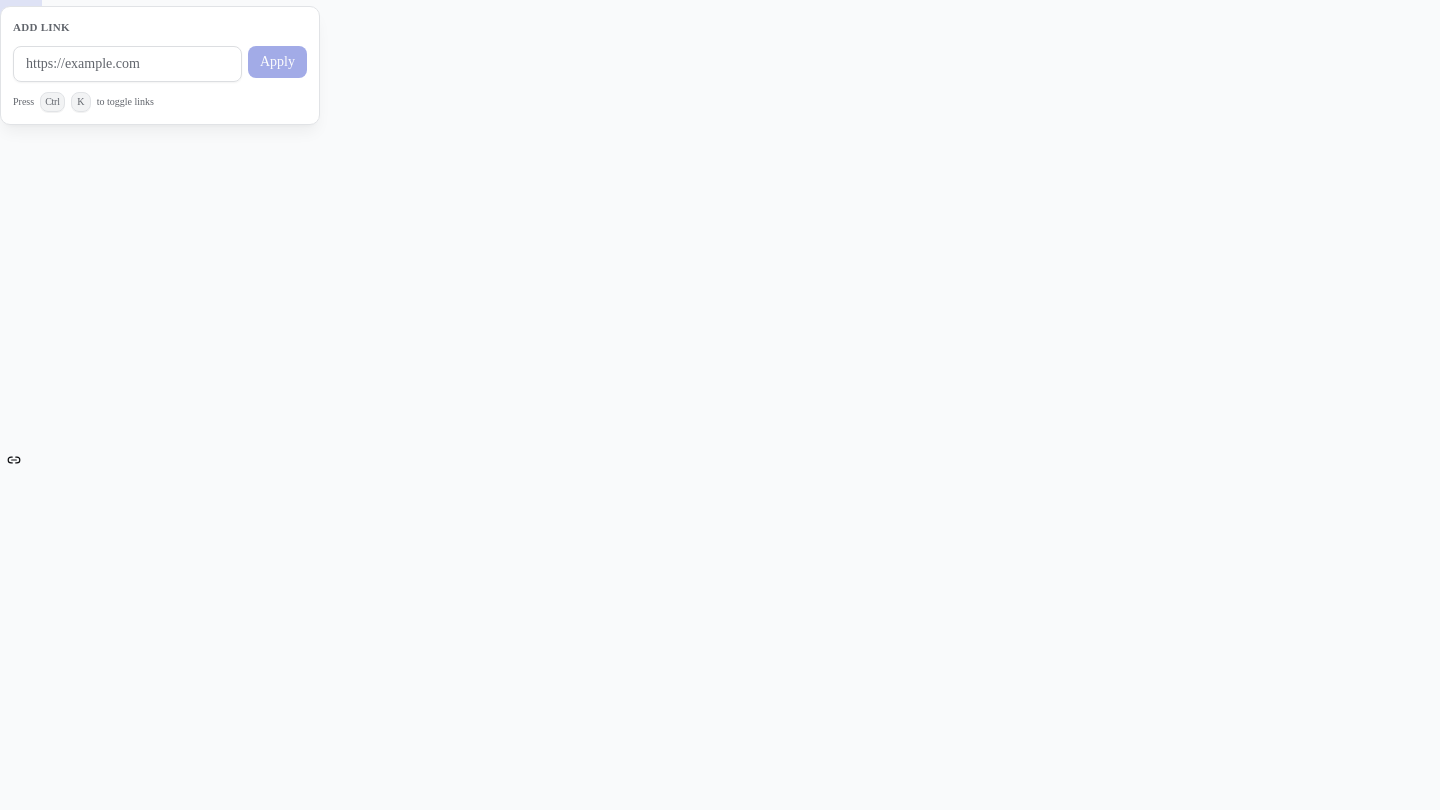
Scenario: LinkPopover — add › disables Apply until there is something to apply
This screenshot has width=1440, height=810.
Expected: the dialog is shown, [0,6,320,124]
Expected: the button "Apply" is disabled, [248,46,307,78]
Type "example.com" into the field with placeholder "https://example.com" at (128, 64), box [13,46,242,82]
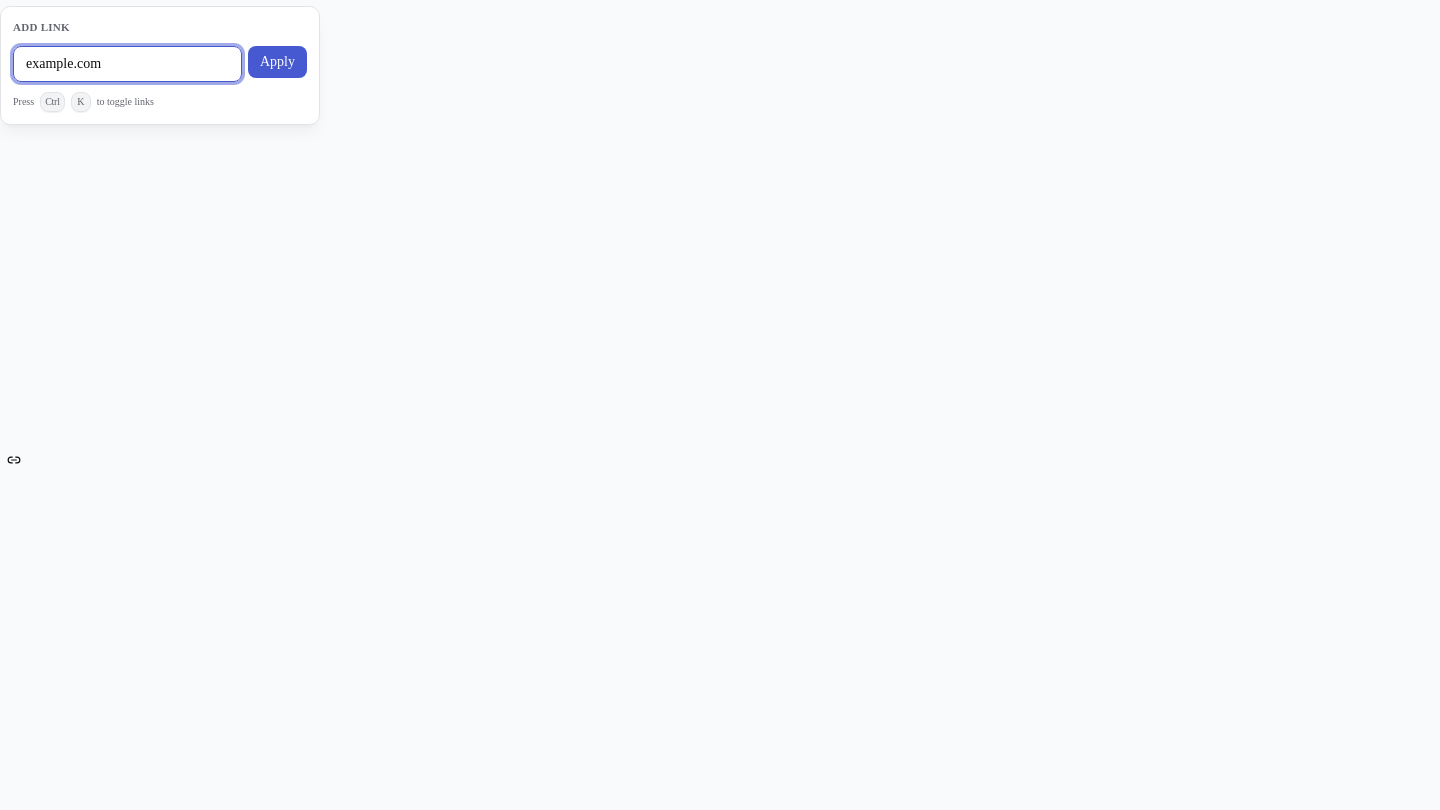
Now the button "Apply" is enabled, box [248,46,307,78]
